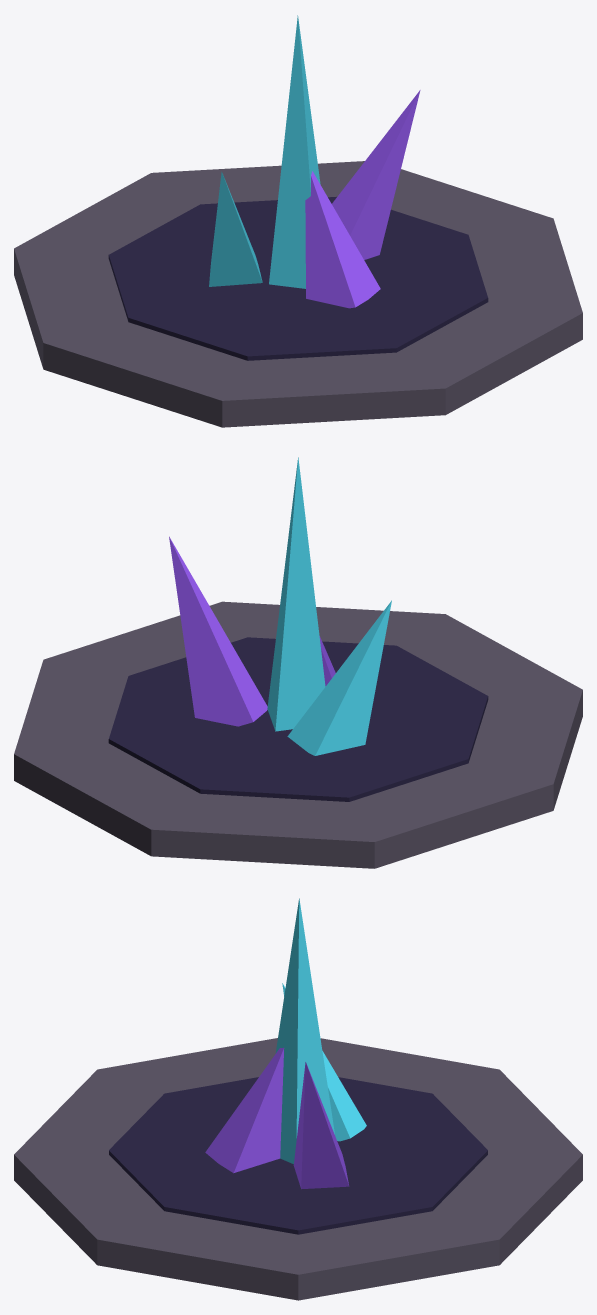
File: crystal.glb
3 views of the same model, one above another, from view 1: azimuth 30°, elevation 25°; view 2: azimuth 150°, elevation 25°; view 3: azimuth 270°, elevation 25° (orthographic). The views are drawn at different scales.
Visible parts, largest first — view 1: crater, crater_floor, shard0, shard3, shard1, shard2; view 2: crater, crater_floor, shard0, shard1, shard2; view 3: crater, crater_floor, shard0, shard3, shard1, shard2.
Boxes of the visible parts, box(x1,y1,x2,y2) form: crater: box(14, 161, 582, 427); crater_floor: box(108, 196, 488, 360); shard0: box(269, 15, 320, 288); shard3: box(305, 171, 380, 308); shard1: box(332, 90, 420, 259); shard2: box(209, 171, 262, 286); crater: box(14, 601, 582, 868); crater_floor: box(108, 637, 488, 801); shard0: box(267, 457, 325, 731); shard1: box(169, 536, 267, 726); shard2: box(287, 600, 391, 755); crater: box(14, 1038, 582, 1300); crater_floor: box(109, 1077, 487, 1234); shard0: box(275, 898, 334, 1164); shard3: box(205, 1047, 284, 1173); shard1: box(293, 1062, 349, 1189); shard2: box(282, 983, 366, 1141).
Size of the model in its own units: 1.2 by 0.6582 by 1.2.
